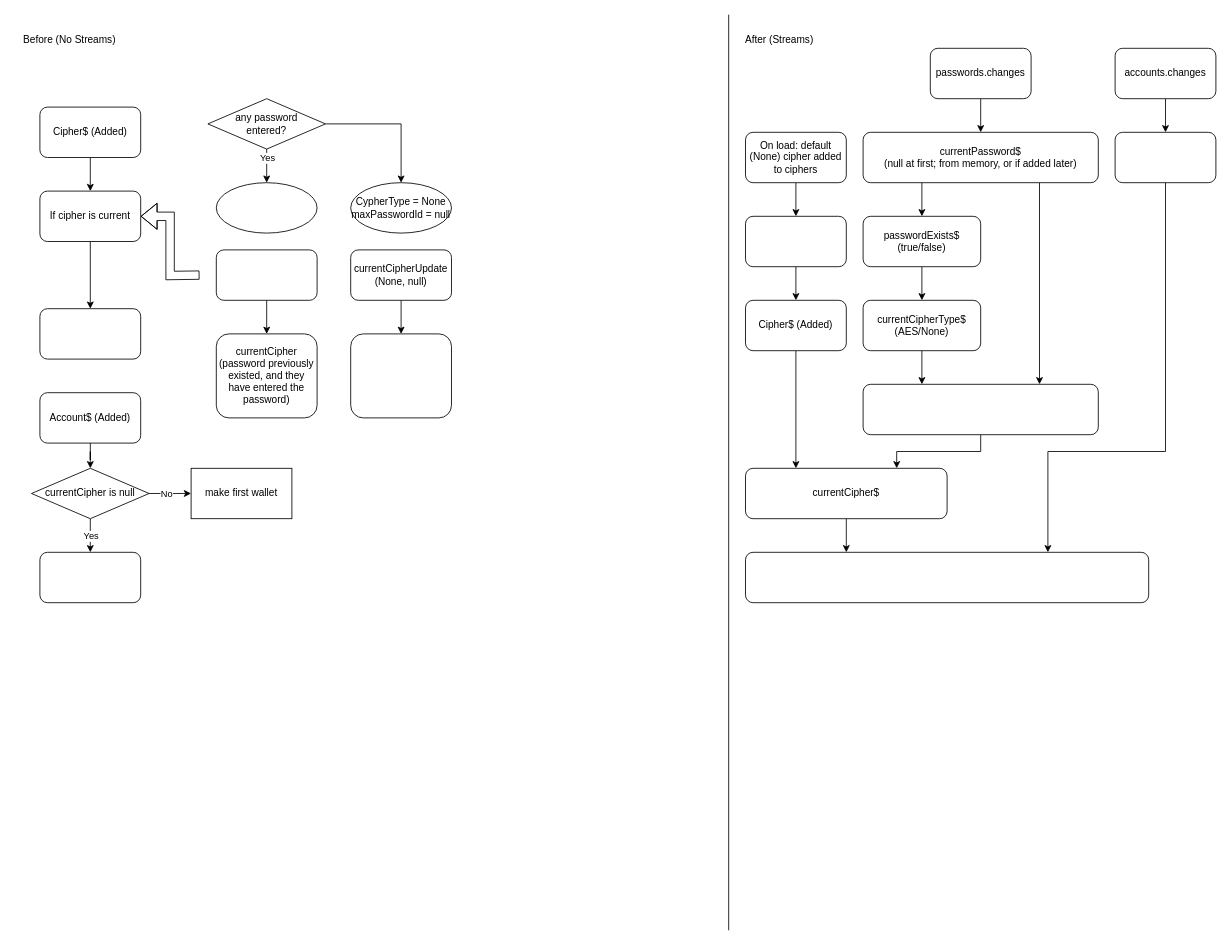
Image size: 1231x946. Some labels were removed from this diagram. Each missing label, with the centre of its shape:
Add to backlog of accounts: point 90,577
ciphers.changes: point 795,241
currentCipher (matches the default "no password" cipher in the registry): point 401,375
currentCipherUpdate (current cipher type, latest password id?): point 266,274
currentCipherUpdate$: point 980,409
CypherType = AES maxPasswordId = int: point 266,207
make first wallet for account: point 947,577
Process backlog of accounts that need first wallet: point 90,333
replayAccount$ (Added): point 1165,157
